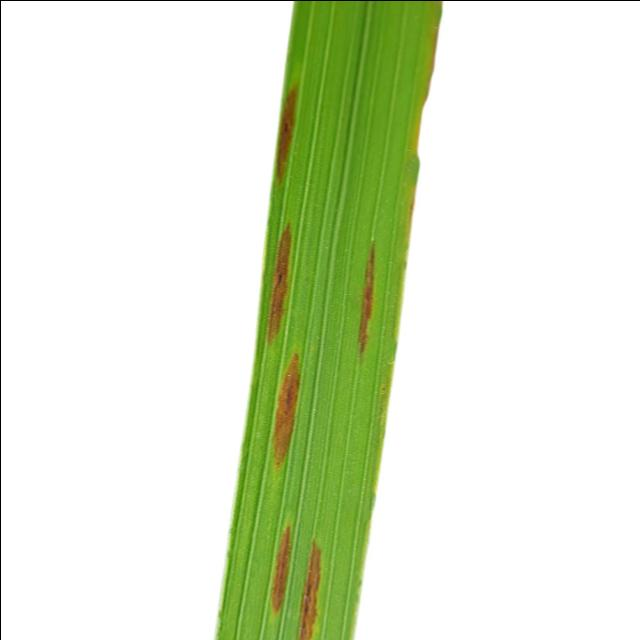Narrow brown: (188, 0, 480, 640)
